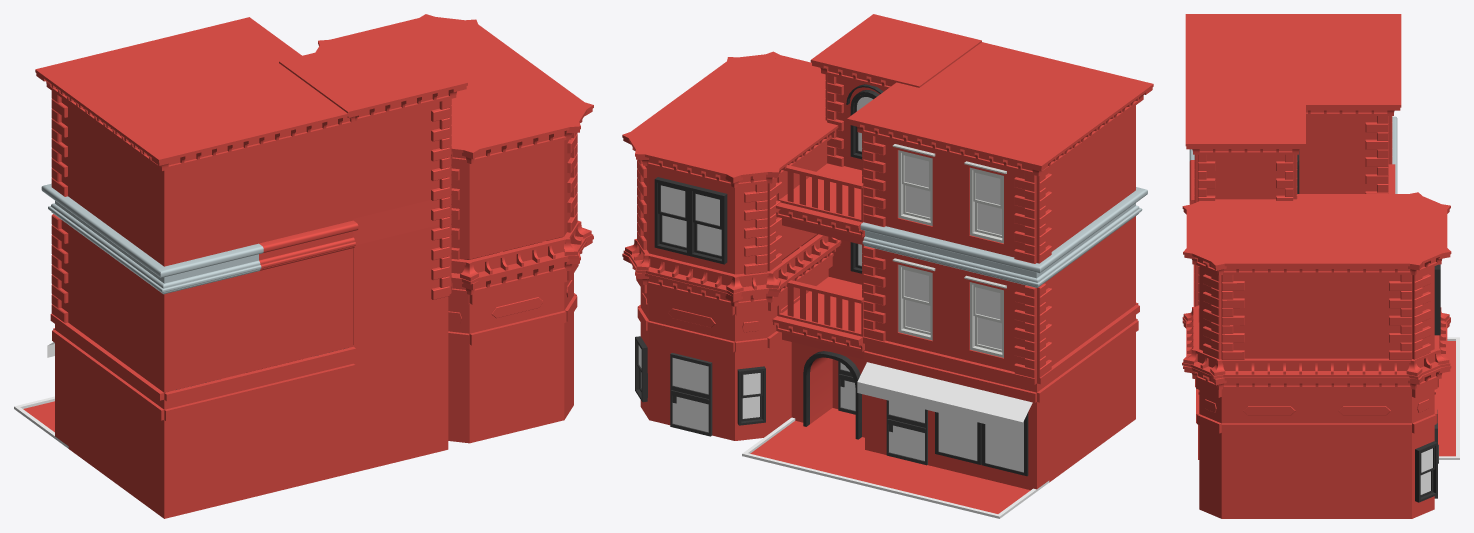
The model's file is Gawad.fbx.
3 renders of one model, left to right at view 1: azimuth 30°, elevation 25°; view 2: azimuth 150°, elevation 25°; view 3: azimuth 270°, elevation 25°, orthographic. The views are drawn at different scales.
Visible parts, largest first — view 1: CornerPieceBlack.025, Cornice_White_Segment_L.001, CornerPieceBlack.017, BrickWallLight_Window_V1_1.101, BrickWallLight_Window_V1_1.099, BrickWallLight_Window_V1_1.100, Metal_Panel_V1_1.020, Metal_Panel_V1_3.020, Metal_Panel_V1_4.074, BrickWallLight_Window_V1_1.027, BrickWallLight_Window_V1_1.096, BrickWallLight_Window_V1_1.095 (+30 smaller); view 2: CornerPieceBlack.025, Cornice_White_Segment_L.001, CornerPieceBlack.017, CornerPieceBlack.040, BrickWallLight_Window_V1_1.106, BrickWallLight_Window_V1_1.105, BrickWallLight_Window_V1_3.010, BrickWallLight_Window_V1_3.009, Plane.004, Window_Double.001, Metal_Panel_V1_1.015, BrickWallLight_Window_V1_1.098 (+57 smaller); view 3: Cornice_White_Segment_L.001, CornerPieceBlack.025, CornerPieceBlack.040, Metal_Panel_V1_1.017, Metal_Panel_V1_1.016, CornerPieceBlack.017, BrickWallLight_Window_V1_1.023, BrickWallLight_Window_V1_1.025, BrickWallLight_Window_V1_1.092, Metal_Panel_V1_5.039, Metal_Panel_V1_5.036, BrickWallLight_Window_V1_1.084 (+17 smaller).
Boxes of the visible parts, x1,y1,x2,y2 form: CornerPieceBlack.025: [35, 17, 360, 170]; Cornice_White_Segment_L.001: [315, 14, 593, 163]; CornerPieceBlack.017: [279, 32, 467, 121]; BrickWallLight_Window_V1_1.101: [353, 351, 448, 472]; BrickWallLight_Window_V1_1.099: [164, 271, 258, 392]; BrickWallLight_Window_V1_1.100: [259, 248, 353, 369]; Metal_Panel_V1_1.020: [469, 323, 564, 443]; Metal_Panel_V1_3.020: [164, 398, 258, 518]; Metal_Panel_V1_4.074: [259, 375, 353, 495]; BrickWallLight_Window_V1_1.027: [469, 140, 564, 259]; BrickWallLight_Window_V1_1.096: [259, 124, 353, 243]; BrickWallLight_Window_V1_1.095: [164, 147, 258, 266]; CornerPieceBlack.025: [847, 42, 1153, 176]; Cornice_White_Segment_L.001: [622, 51, 838, 187]; CornerPieceBlack.017: [810, 14, 981, 89]; CornerPieceBlack.040: [622, 234, 841, 306]; BrickWallLight_Window_V1_1.106: [875, 248, 950, 356]; BrickWallLight_Window_V1_1.105: [875, 136, 950, 241]; BrickWallLight_Window_V1_3.010: [951, 267, 1025, 371]; BrickWallLight_Window_V1_3.009: [951, 155, 1024, 257]; Plane.004: [857, 362, 1032, 433]; Window_Double.001: [654, 177, 727, 264]; Metal_Panel_V1_1.015: [649, 332, 734, 440]; BrickWallLight_Window_V1_1.098: [1086, 216, 1135, 340]; Cornice_White_Segment_L.001: [1182, 192, 1451, 275]; CornerPieceBlack.025: [1185, 14, 1401, 115]; CornerPieceBlack.040: [1182, 305, 1451, 389]; Metal_Panel_V1_1.017: [1221, 434, 1316, 518]; Metal_Panel_V1_1.016: [1317, 434, 1411, 518]; CornerPieceBlack.017: [1185, 93, 1305, 154]; BrickWallLight_Window_V1_1.023: [1317, 274, 1400, 358]; BrickWallLight_Window_V1_1.025: [1233, 274, 1316, 358]; BrickWallLight_Window_V1_1.092: [1299, 116, 1377, 193]; Metal_Panel_V1_5.039: [1221, 389, 1316, 433]; Metal_Panel_V1_5.036: [1317, 389, 1411, 433]; BrickWallLight_Window_V1_1.084: [1206, 154, 1284, 199].
Size of the model in its own units: 956 by 745 by 584.
